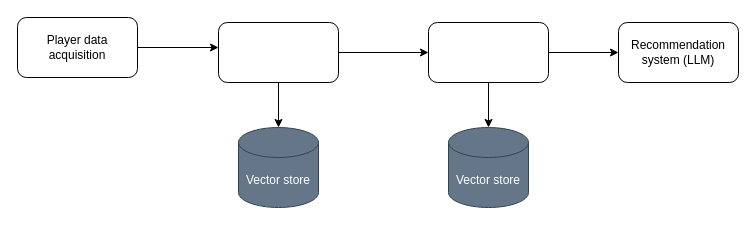
Image size: 756x225. Some labels were removed from this diagram. The centre of each missing label's shape, as x and y in pixels:
"Player textual profiles generation (LLM)" goes at (x=278, y=52).
"Team textual profiles generation (LLM)" goes at (x=488, y=52).
